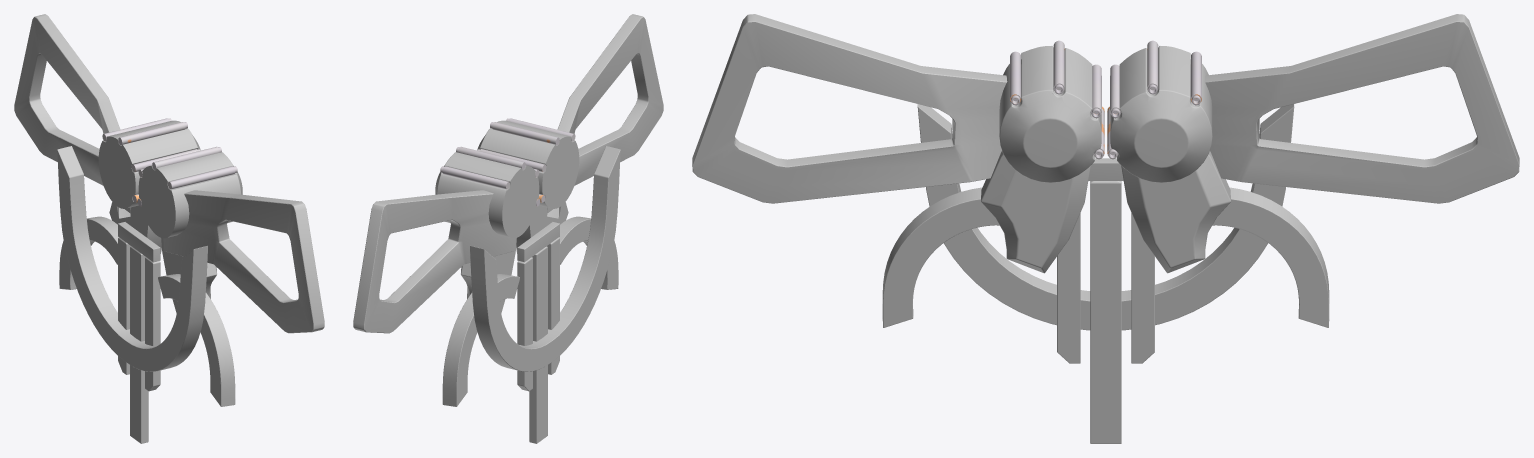
The model's file is Center Piece.fbx.
3 renders of one model, left to right at view 1: azimuth 30°, elevation 25°; view 2: azimuth 150°, elevation 25°; view 3: azimuth 270°, elevation 25°, orthographic. The views are drawn at different scales.
Parts seen in each view (by area): view 1: Center Piece; view 2: Center Piece; view 3: Center Piece.
Part boxes in pixels (box(x1,y1,x2,y2)): Center Piece: box(14, 14, 324, 443); Center Piece: box(353, 14, 663, 443); Center Piece: box(692, 14, 1519, 443).
Size of the model in its own units: 110 by 388 by 654.
